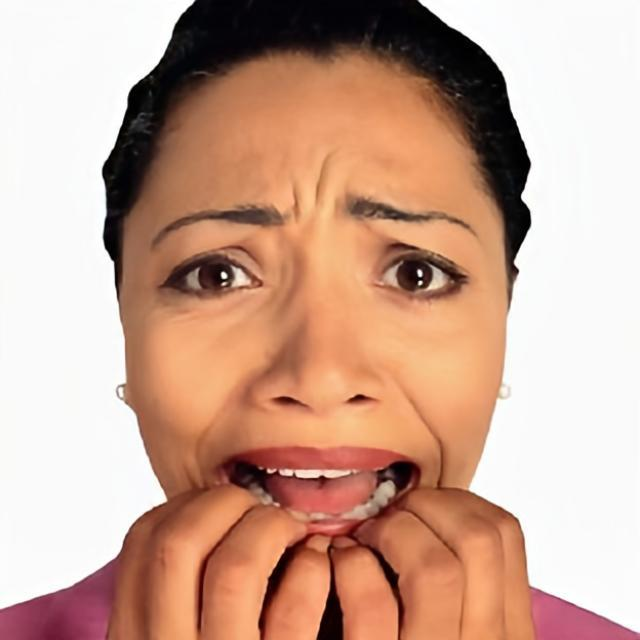fear: (124, 40, 509, 612)
